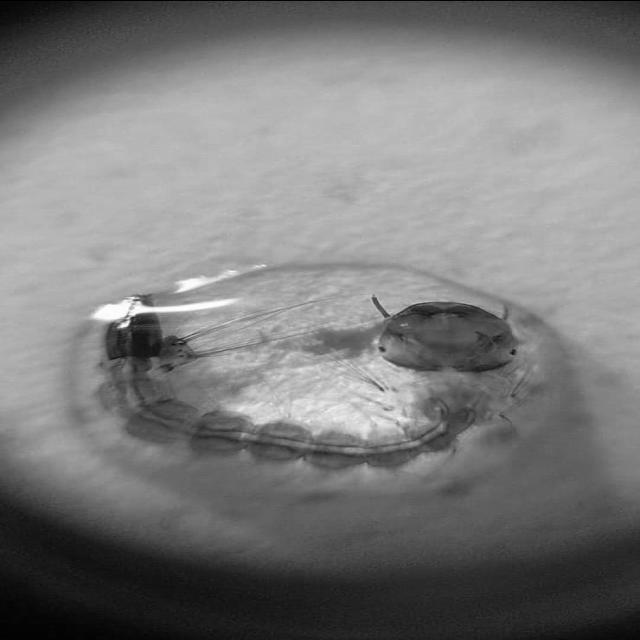larvas: (107, 300, 505, 467)
